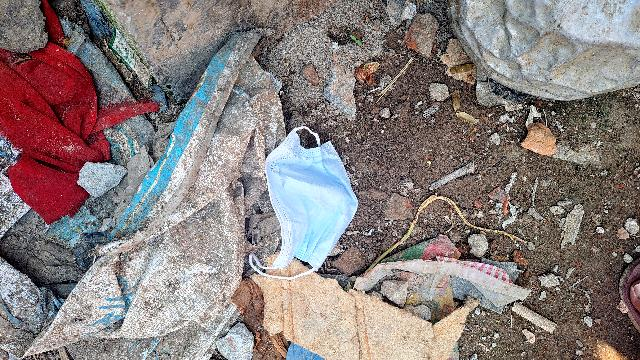mask: (264, 133, 356, 267)
